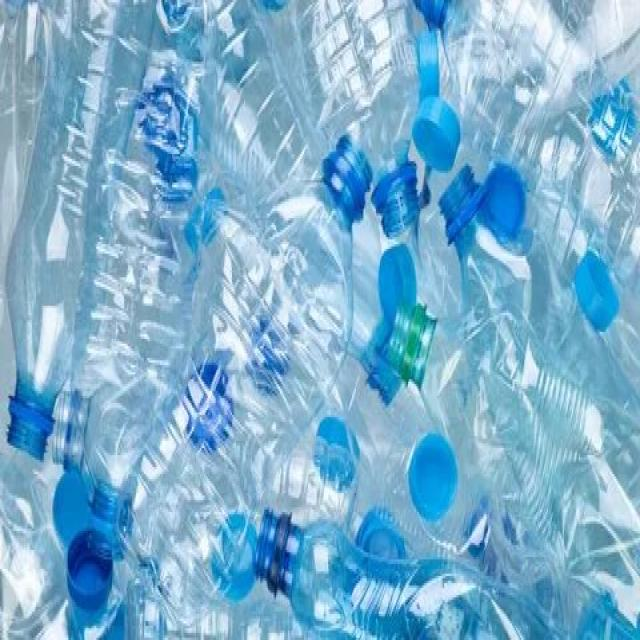blue: (115, 130, 372, 610), (437, 160, 599, 596), (5, 0, 156, 455)
